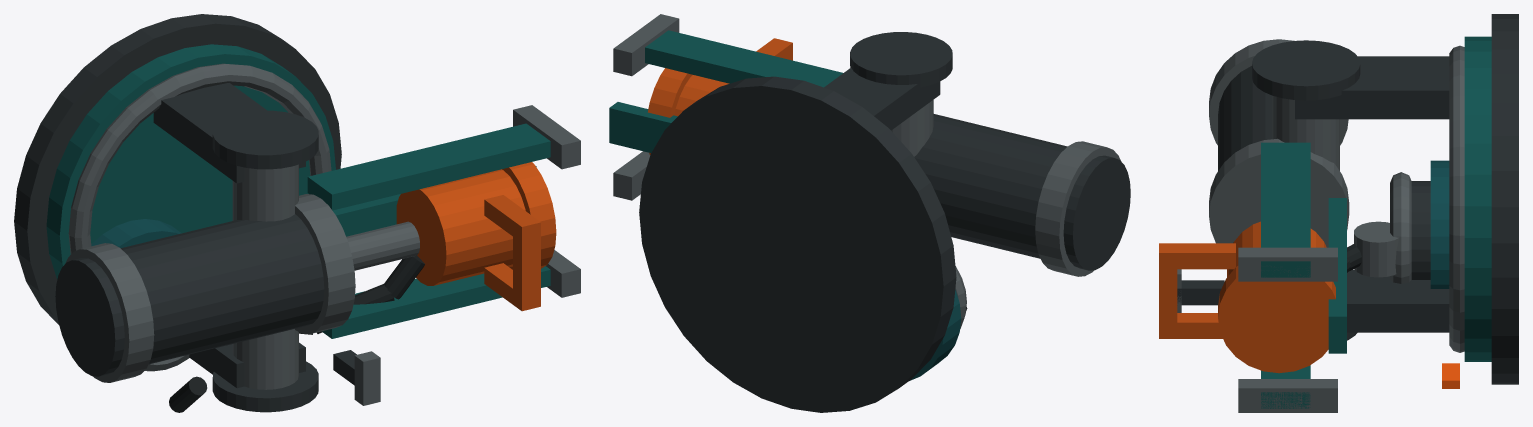
File: harpoon_cannon_blockout.obj
The picture shows the model from 3 angles, left to right: view 1: azimuth 30°, elevation 25°; view 2: azimuth 150°, elevation 25°; view 3: azimuth 270°, elevation 25°; orthographic projection. The views are drawn at different scales.
Parts seen in each view (by area): view 1: HC_PressureChamber, HC_RotatingBase, HC_StaticMount, HC_ConnectorProxy_Body, HC_Guide_Right, HC_RotationRing, HC_Trunnion, HC_ElevationGear_Right, HC_Yoke_Right, HC_PressureBand_Rear, HC_Guide_Left, HC_PressureBand_Front (+16 smaller); view 2: HC_StaticMount, HC_PressureChamber, HC_Guide_Right, HC_ElevationGear_Right, HC_PressureBand_Rear, HC_Yoke_Right, HC_Guide_Bottom, HC_MuzzleBrace_Right, HC_ConnectorProxy_Collar, HC_Trunnion, HC_MuzzleBrace_Left, HC_StockMooring_BaseProxy (+1 smaller); view 3: HC_StaticMount, HC_ConnectorProxy_Collar, HC_RotatingBase, HC_Yoke_Right, HC_PressureBand_Front, HC_Guide_Right, HC_Yoke_Left, HC_ElevationGear_Right, HC_RotationRing, HC_PressureChamber, HC_MuzzleBrace_Left, HC_MuzzleBrace_Right (+14 smaller).
Part boxes in pixels (left/top/right/bottom): HC_PressureChamber: left=55, top=214, right=324, bottom=376; HC_RotatingBase: left=46, top=44, right=335, bottom=279; HC_StaticMount: left=14, top=14, right=341, bottom=324; HC_ConnectorProxy_Body: left=396, top=169, right=525, bottom=285; HC_Guide_Right: left=307, top=123, right=550, bottom=210; HC_RotationRing: left=68, top=63, right=331, bottom=254; HC_Trunnion: left=232, top=164, right=298, bottom=389; HC_ElevationGear_Right: left=212, top=110, right=318, bottom=169; HC_Yoke_Right: left=153, top=83, right=305, bottom=183; HC_PressureBand_Rear: left=65, top=243, right=154, bottom=382; HC_Guide_Left: left=322, top=266, right=550, bottom=338; HC_PressureBand_Front: left=295, top=194, right=355, bottom=334; HC_StaticMount: left=639, top=76, right=956, bottom=412; HC_PressureChamber: left=914, top=114, right=1130, bottom=270; HC_Guide_Right: left=645, top=30, right=842, bottom=87; HC_ElevationGear_Right: left=850, top=32, right=952, bottom=87; HC_PressureBand_Rear: left=1035, top=141, right=1120, bottom=276; HC_Yoke_Right: left=824, top=68, right=940, bottom=130; HC_Guide_Bottom: left=609, top=102, right=677, bottom=152; HC_MuzzleBrace_Right: left=613, top=14, right=679, bottom=76; HC_ConnectorProxy_Collar: left=648, top=68, right=692, bottom=154; HC_Trunnion: left=891, top=100, right=933, bottom=156; HC_MuzzleBrace_Left: left=613, top=151, right=650, bottom=200; HC_StockMooring_BaseProxy: left=909, top=289, right=961, bottom=380; HC_StaticMount: left=1491, top=14, right=1518, bottom=384; HC_ConnectorProxy_Collar: left=1218, top=266, right=1335, bottom=373; HC_RotatingBase: left=1464, top=36, right=1491, bottom=361; HC_Yoke_Right: left=1295, top=56, right=1449, bottom=119; HC_PressureBand_Front: left=1209, top=138, right=1349, bottom=247; HC_Guide_Right: left=1261, top=142, right=1310, bottom=277; HC_Yoke_Left: left=1347, top=269, right=1449, bottom=332; HC_ElevationGear_Right: left=1252, top=40, right=1360, bottom=100; HC_RotationRing: left=1449, top=45, right=1464, bottom=352; HC_PressureChamber: left=1218, top=66, right=1272, bottom=170; HC_MuzzleBrace_Left: left=1238, top=379, right=1337, bottom=412; HC_MuzzleBrace_Right: left=1238, top=247, right=1337, bottom=281.
Bounding box in the file's own units: 248 × 164 × 159.
